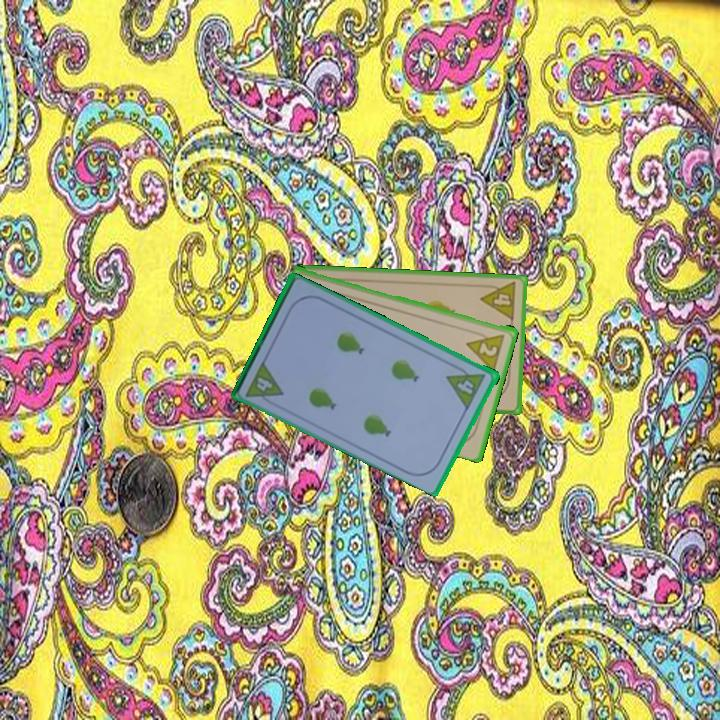2p: (463, 328, 508, 373)
4p: (242, 358, 287, 410), (444, 360, 489, 411), (477, 279, 519, 323)
